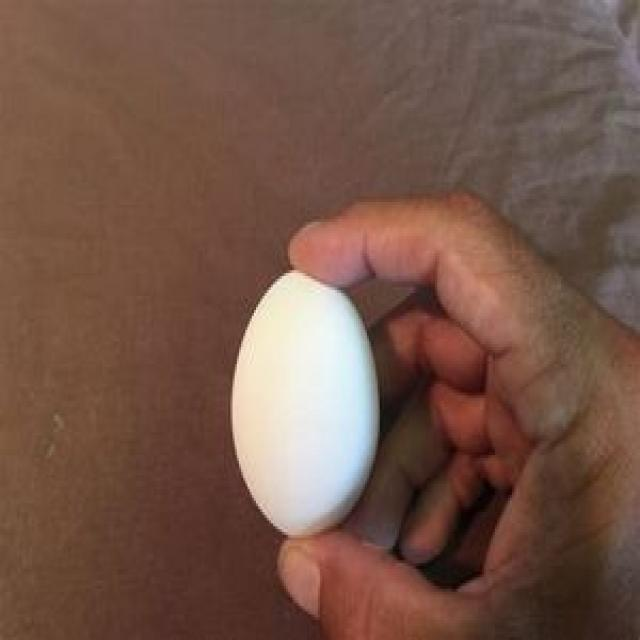Egg: (203, 230, 386, 566)
